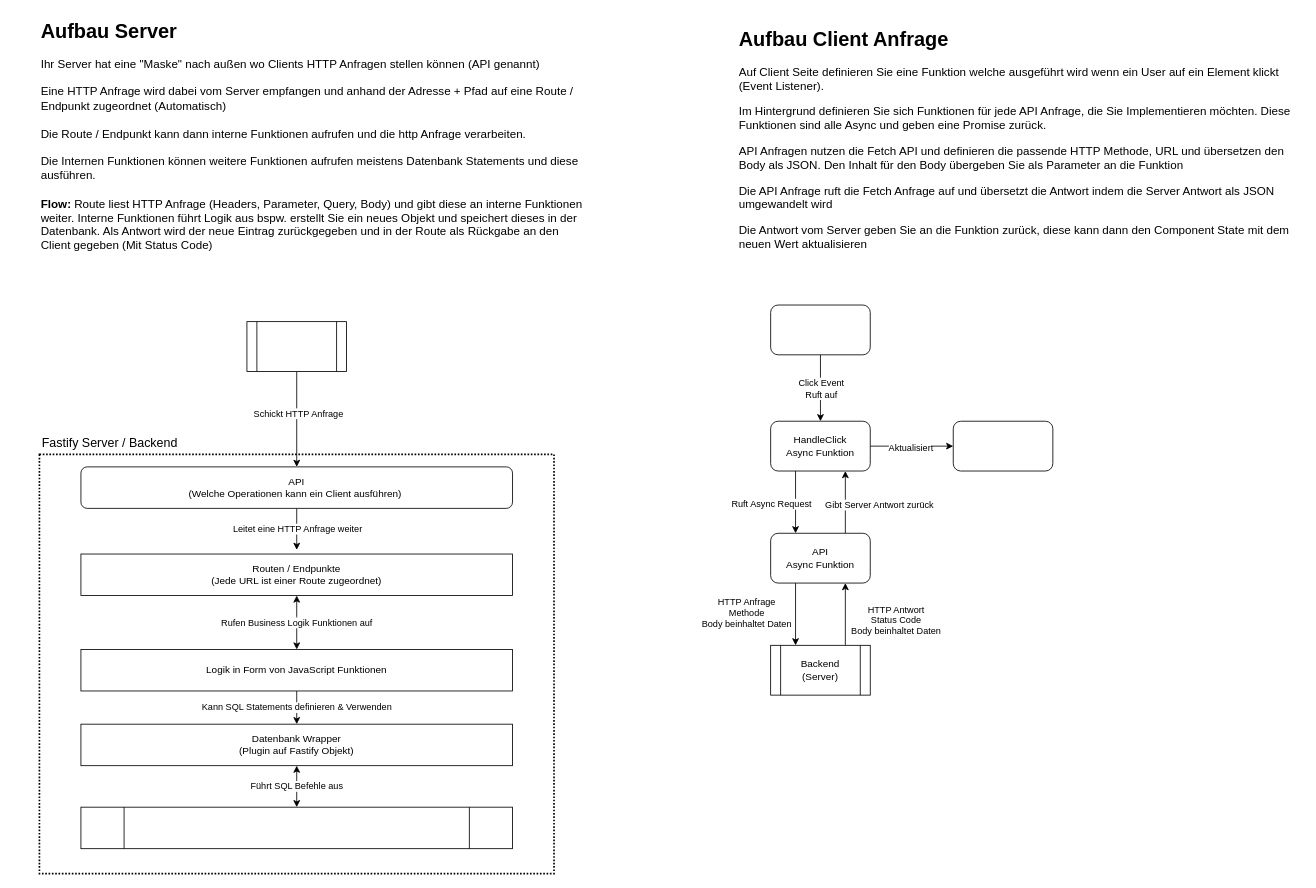
Some shapes in this 1316 by 888 pixel diagram are drawn without their labels. Here are the shapes that lost their labels. From the top down, the centre of each, then its label:
At (x=296, y=346): "Frontend (Client)".
At (x=820, y=329): "Button Component".
At (x=1002, y=445): "Component State".
At (x=296, y=827): "Datenbank (SQLite)".
